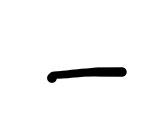minus: (48, 67, 125, 81)
